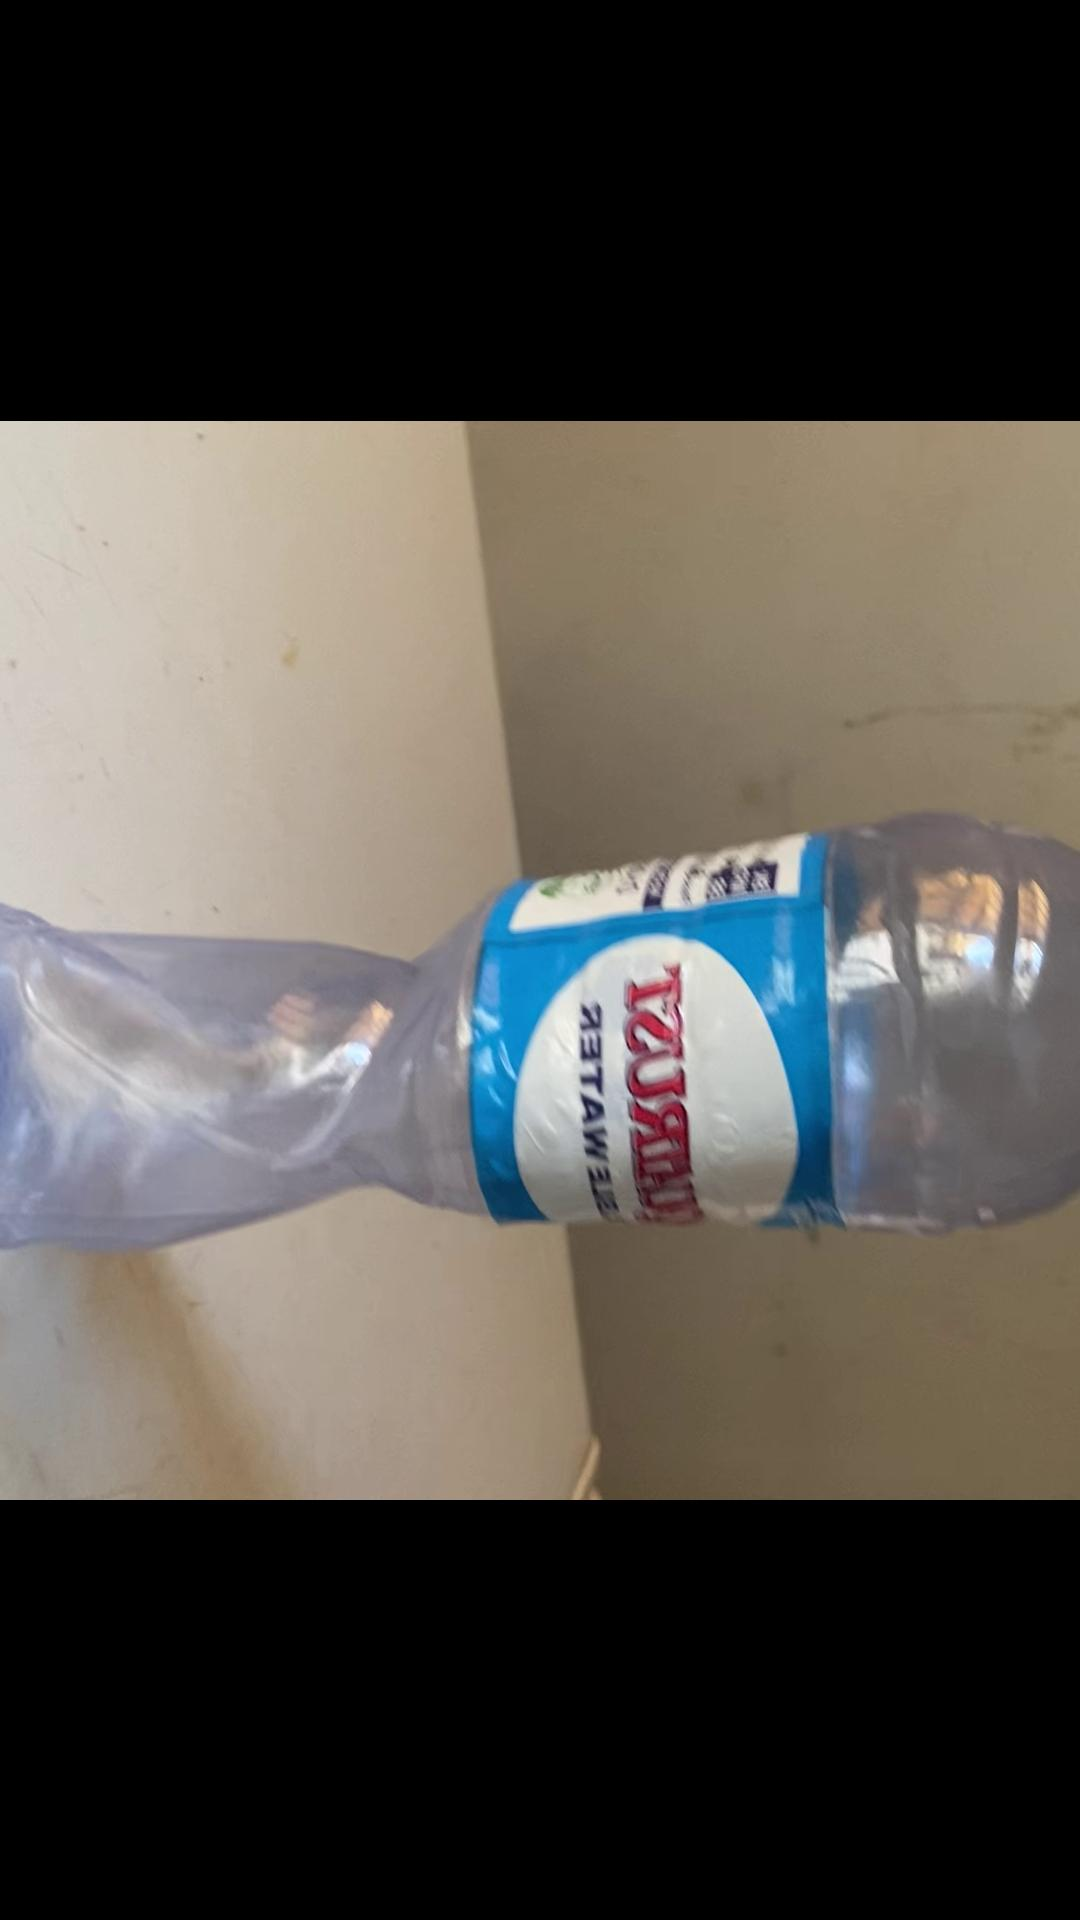crumbled: (0, 800, 1080, 1263)
label: (471, 844, 823, 1233)
